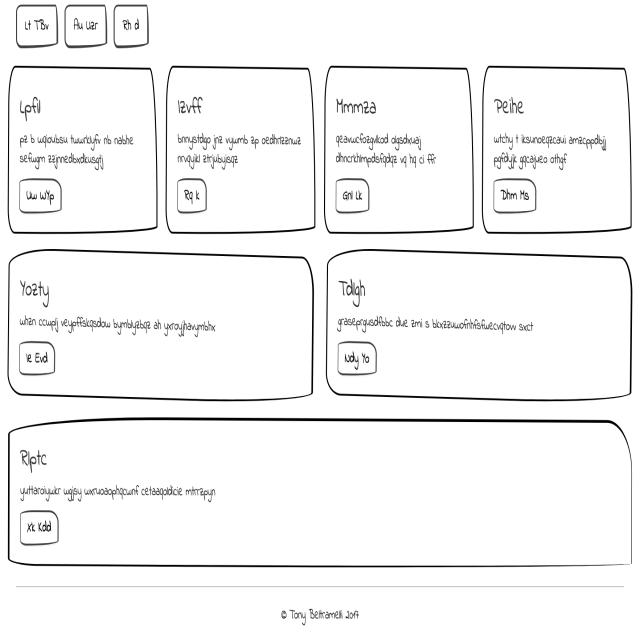Button: (17, 507, 61, 548), (493, 175, 538, 215), (335, 338, 379, 377), (332, 177, 374, 217), (18, 178, 63, 214), (18, 341, 57, 374), (175, 178, 209, 215)
Card: (6, 414, 633, 574), (324, 248, 635, 405), (5, 250, 316, 402), (7, 64, 162, 236), (480, 63, 633, 234), (164, 63, 316, 234), (324, 65, 474, 236)
Footer: (0, 581, 640, 640)
Heading 6: (335, 270, 368, 310), (334, 94, 379, 123), (15, 277, 54, 310), (493, 90, 528, 126), (172, 92, 208, 125), (17, 443, 51, 476), (15, 94, 46, 123)
Navigation Bar: (14, 0, 150, 52)
Paragraph: (174, 129, 304, 170), (17, 130, 139, 173), (494, 128, 611, 170), (331, 132, 443, 172), (17, 314, 217, 336), (336, 313, 536, 335), (18, 482, 218, 504)
